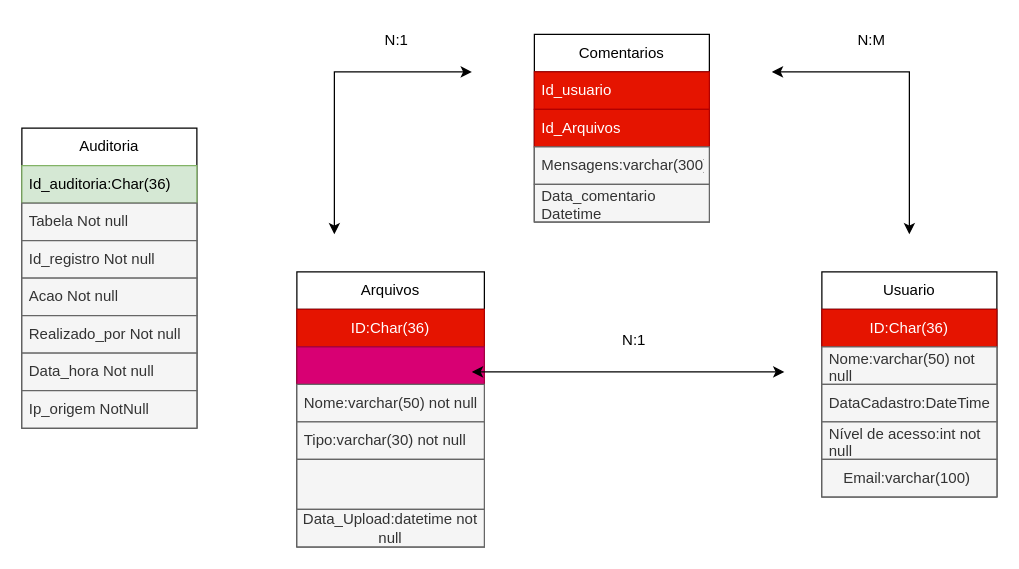
This 1019x569 diagram has some shape labels left out. The centre of each missing label's shape, as x and y in pixels:
"Cadastro_Por" goes at pixel 390 365.
"Conteudo:longblop" goes at pixel 390 483.
